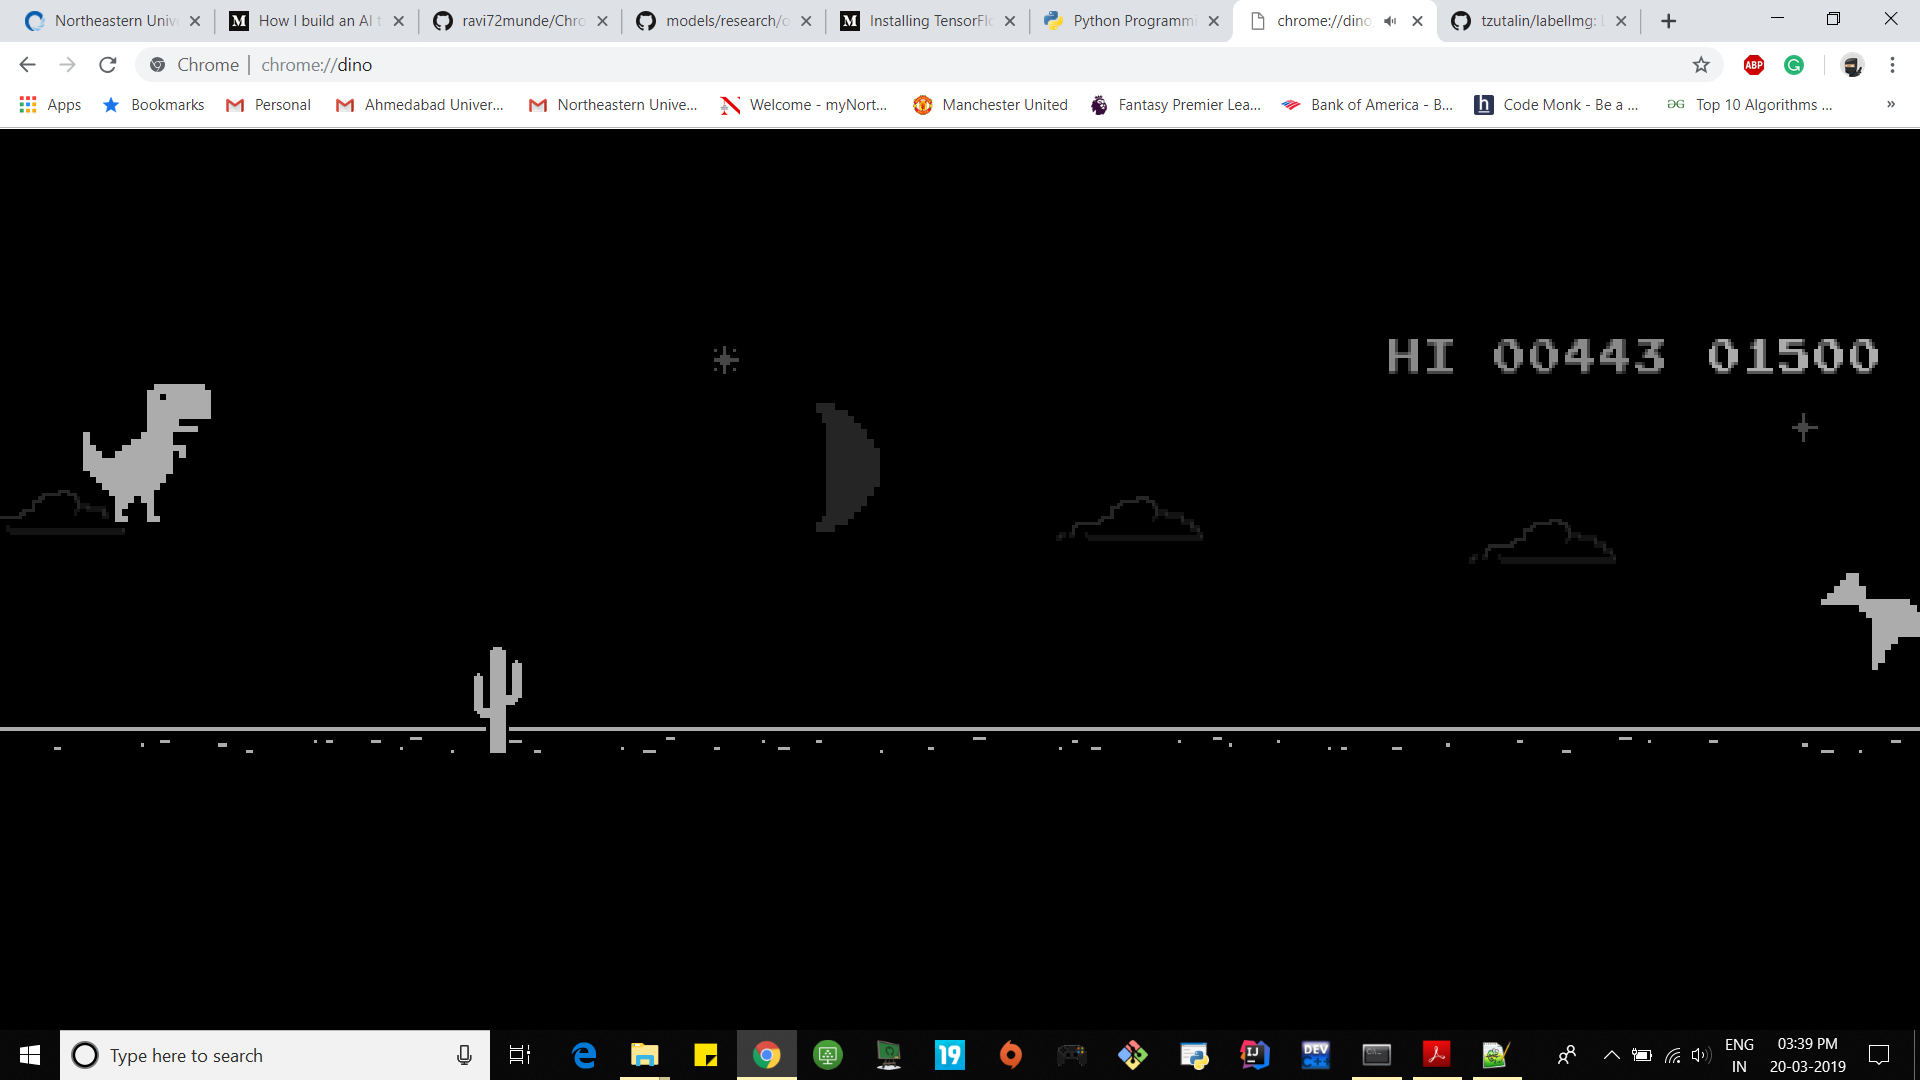bird: (1818, 572, 1920, 670)
cactus-small: (469, 646, 526, 753)
dino: (79, 382, 208, 525)
